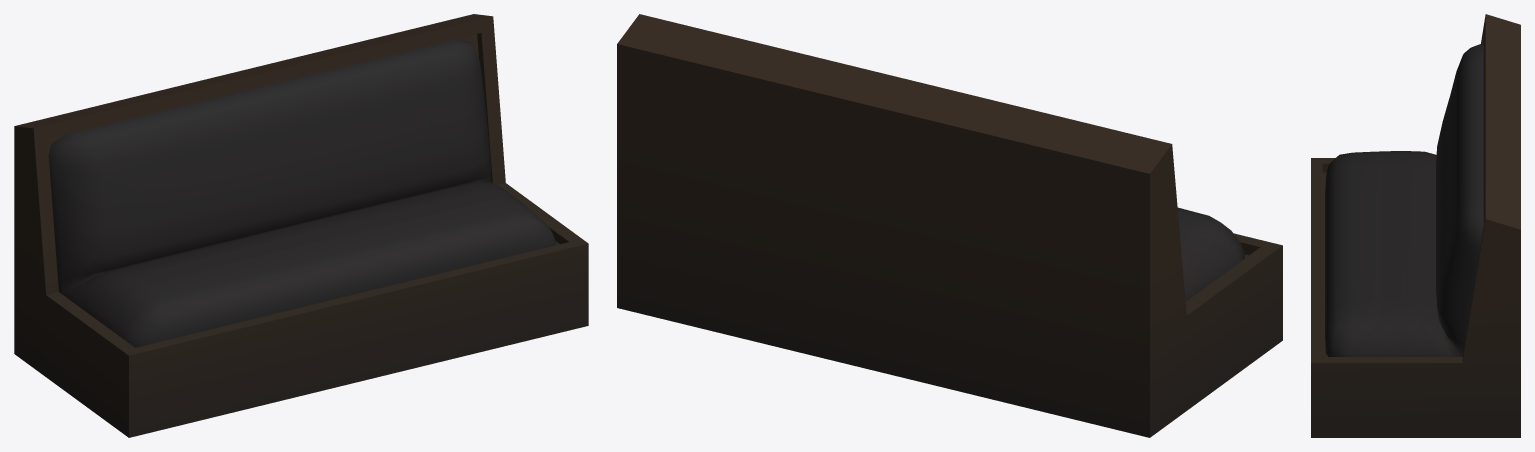
File: Chair booth.fbx
The picture shows the model from 3 angles, left to right: view 1: azimuth 30°, elevation 25°; view 2: azimuth 150°, elevation 25°; view 3: azimuth 270°, elevation 25°; orthographic projection. The views are drawn at different scales.
Parts seen in each view (by area): view 1: Chair booth; view 2: Chair booth; view 3: Chair booth.
Part boxes in pixels (x1=…): Chair booth: x1=14, y1=14, x2=588, y2=437; Chair booth: x1=617, y1=14, x2=1282, y2=437; Chair booth: x1=1311, y1=14, x2=1520, y2=437.
Bounding box in the file's own units: 362 × 180 × 156.
1 material, 1 textured.
